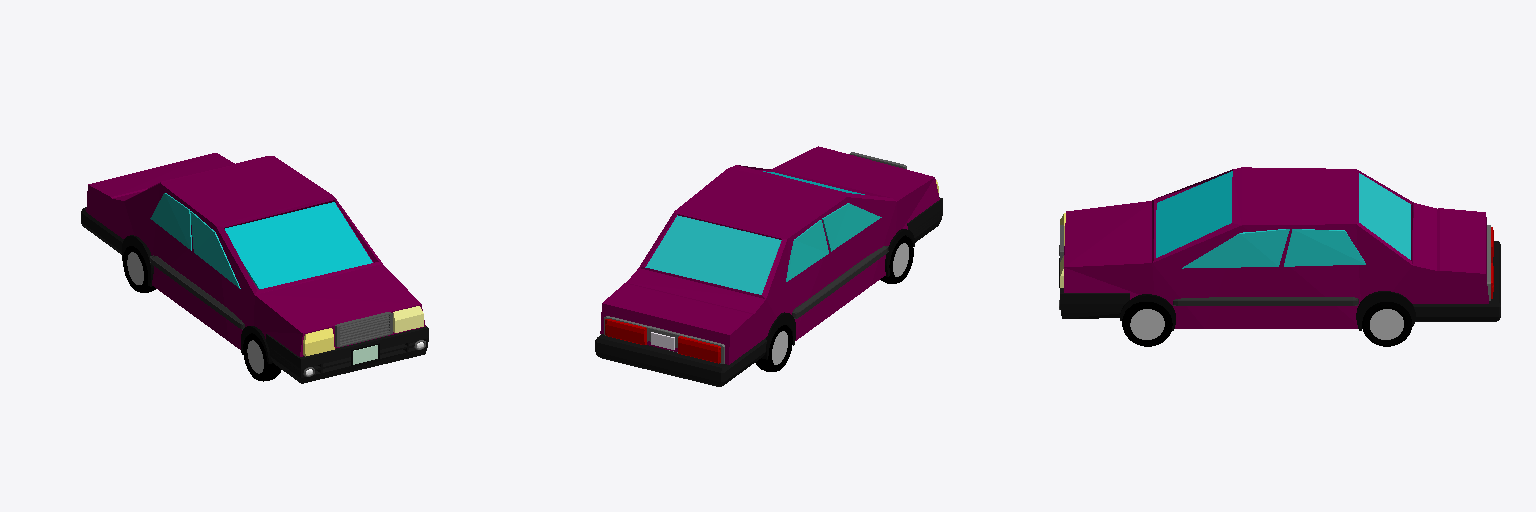
The model's file is enemy02.obj.
3 renders of one model, left to right at view 1: azimuth 30°, elevation 25°; view 2: azimuth 150°, elevation 25°; view 3: azimuth 270°, elevation 25°, orthographic.
Visible parts, largest first — view 1: Cube, 立方体.012_立方体.015, 立方体_立方体.001, 立方体.010_立方体.011, 立方体.005_立方体.006, 立方体.014_立方体.017, 立方体.006_立方体.007, 立方体.003_立方体.004, 立方体.004_立方体.005, Torus.005_Torus.008; view 2: Cube, 立方体.013_立方体.016, 立方体.006_立方体.007, 立方体.010_立方体.011, 立方体.007_立方体.008, 立方体.014_立方体.017, 立方体_立方体.001, Torus.006_Torus.009, 立方体.008_立方体.009; view 3: Cube, 立方体.011_立方体.014, 立方体.012_立方体.015, 立方体.013_立方体.016, 立方体.006_立方体.007, 立方体_立方体.001, 立方体.014_立方体.017, Torus.003, Torus.004_Torus.007, 円柱.002, 円柱.003_円柱.006, 円柱.001.
Part boxes in pixels (left/top/right/bottom): Cube: left=86, top=153, right=425, bottom=356; 立方体.012_立方体.015: left=225, top=202, right=372, bottom=289; 立方体_立方体.001: left=266, top=326, right=428, bottom=383; 立方体.010_立方体.011: left=150, top=193, right=240, bottom=288; 立方体.005_立方体.006: left=335, top=312, right=392, bottom=346; 立方体.014_立方体.017: left=150, top=255, right=244, bottom=329; 立方体.006_立方体.007: left=81, top=207, right=123, bottom=254; 立方体.003_立方体.004: left=303, top=328, right=334, bottom=356; 立方体.004_立方体.005: left=393, top=306, right=423, bottom=332; Torus.005_Torus.008: left=243, top=333, right=281, bottom=381; Cube: left=600, top=146, right=939, bottom=364; 立方体.013_立方体.016: left=645, top=215, right=781, bottom=294; 立方体.006_立方体.007: left=595, top=334, right=766, bottom=386; 立方体.010_立方体.011: left=786, top=203, right=881, bottom=281; 立方体.007_立方体.008: left=605, top=319, right=720, bottom=363; 立方体.014_立方体.017: left=792, top=246, right=888, bottom=318; 立方体_立方体.001: left=907, top=197, right=942, bottom=242; Torus.006_Torus.009: left=755, top=325, right=792, bottom=371; 立方体.008_立方体.009: left=604, top=316, right=724, bottom=363; Cube: left=1064, top=167, right=1488, bottom=328; 立方体.011_立方体.014: left=1182, top=229, right=1365, bottom=268; 立方体.012_立方体.015: left=1156, top=171, right=1232, bottom=257; 立方体.013_立方体.016: left=1359, top=173, right=1410, bottom=259; 立方体.006_立方体.007: left=1413, top=241, right=1500, bottom=321; 立方体_立方体.001: left=1060, top=288, right=1129, bottom=318; 立方体.014_立方体.017: left=1173, top=297, right=1358, bottom=305; Torus.003: left=1122, top=302, right=1172, bottom=346; Torus.004_Torus.007: left=1362, top=302, right=1412, bottom=346; 円柱.002: left=1130, top=309, right=1164, bottom=339; 円柱.003_円柱.006: left=1370, top=309, right=1403, bottom=339; 円柱.001: left=1356, top=291, right=1415, bottom=330.
Bounding box in the file's own units: 2.93 × 2.44 × 8.17.